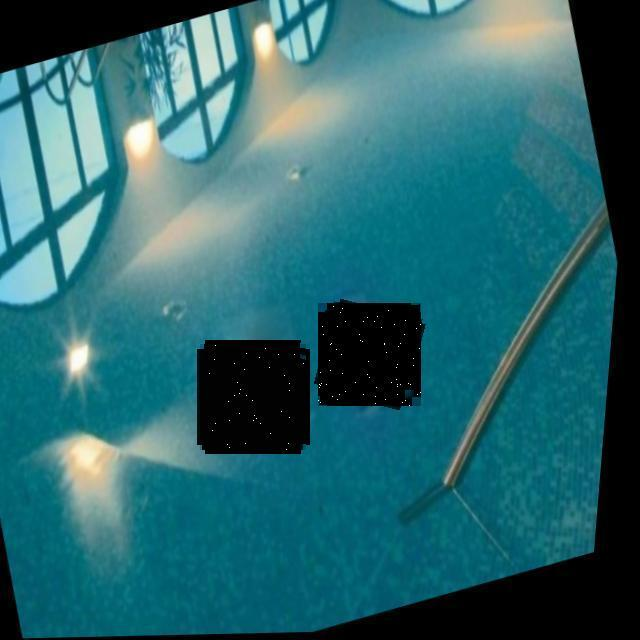swimming: (200, 344, 306, 450), (318, 303, 421, 406)
